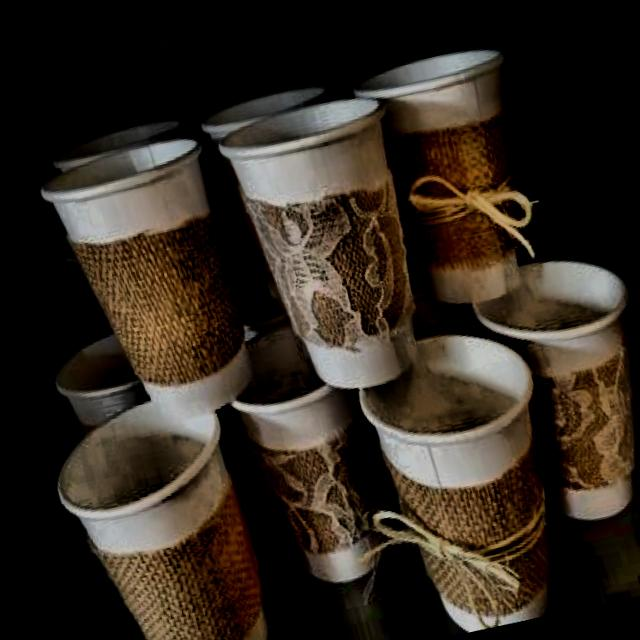Cup: (333, 298, 587, 640), (35, 120, 276, 432), (212, 78, 437, 389), (28, 377, 286, 640), (345, 23, 564, 326), (206, 289, 419, 597), (457, 224, 640, 541)
